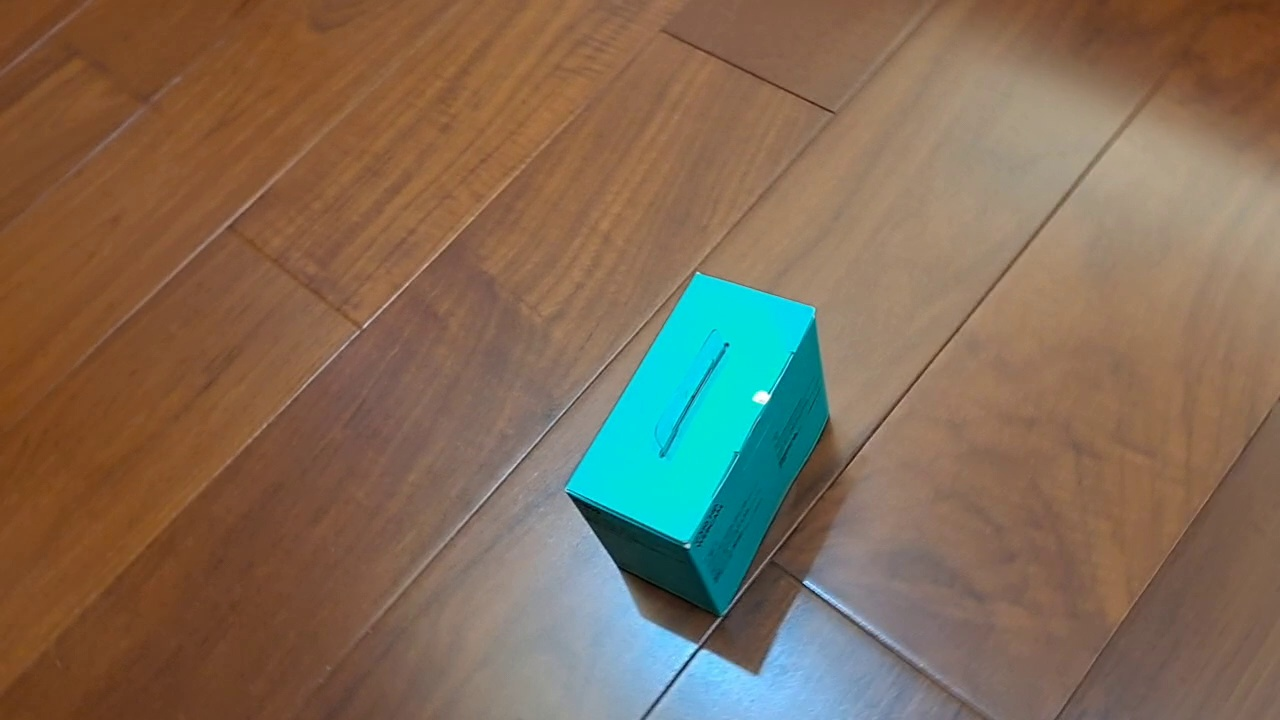webcam: (563, 269, 832, 619)
